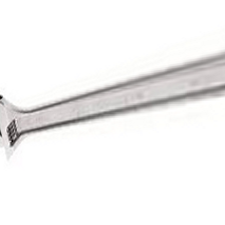Wrench: (1, 62, 225, 158)
